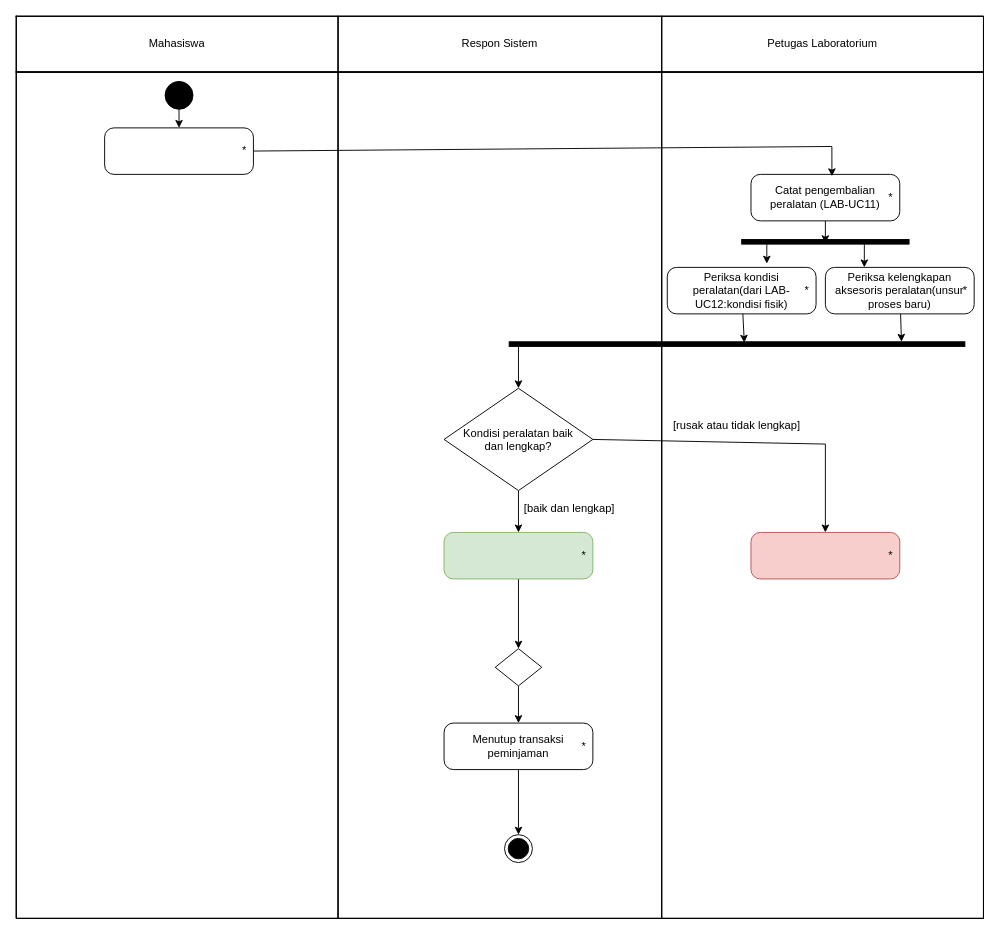
Some shapes in this 1000 by 935 pixel diagram are drawn without their labels. The shapes that lost their labels are listed below. From the top down, each one's centre as x and y in pixels, then its label:
At [178,150]: "Menyerahkan peralatan yang dipinjam".
At [518,555]: "Perbarui status peralatan menjadi tersedia".
At [825,555]: "Catat kerusakan atau kekurangan dan jadwalkan perbaikan".
